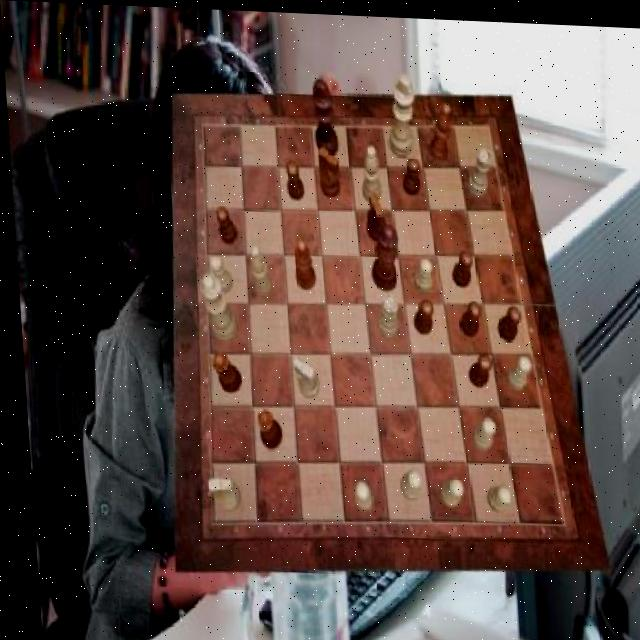bishop: (425, 99, 452, 160), (289, 236, 312, 289)
black-bishop: (309, 75, 337, 154)
black-king: (316, 144, 339, 196), (362, 189, 384, 239)
black-knight: (492, 301, 518, 338), (461, 348, 487, 383), (447, 246, 470, 284), (455, 297, 478, 334), (399, 153, 420, 193), (212, 204, 234, 242), (409, 295, 431, 332), (283, 157, 302, 198)
black-pawn: (365, 222, 398, 290)
black-queen: (207, 350, 237, 392), (251, 408, 277, 449)
black-rook: (245, 243, 270, 297), (357, 141, 379, 200)
white-bishop: (385, 69, 417, 154)
white-king: (288, 354, 316, 397), (200, 475, 234, 510)
white-knight: (499, 351, 527, 388), (204, 253, 229, 291), (464, 412, 490, 448), (433, 474, 458, 506), (392, 466, 416, 498), (409, 254, 430, 289), (480, 481, 506, 509), (347, 477, 368, 509)
white-pawn: (193, 272, 233, 340)
white-queen: (463, 144, 492, 194), (370, 291, 395, 336)
